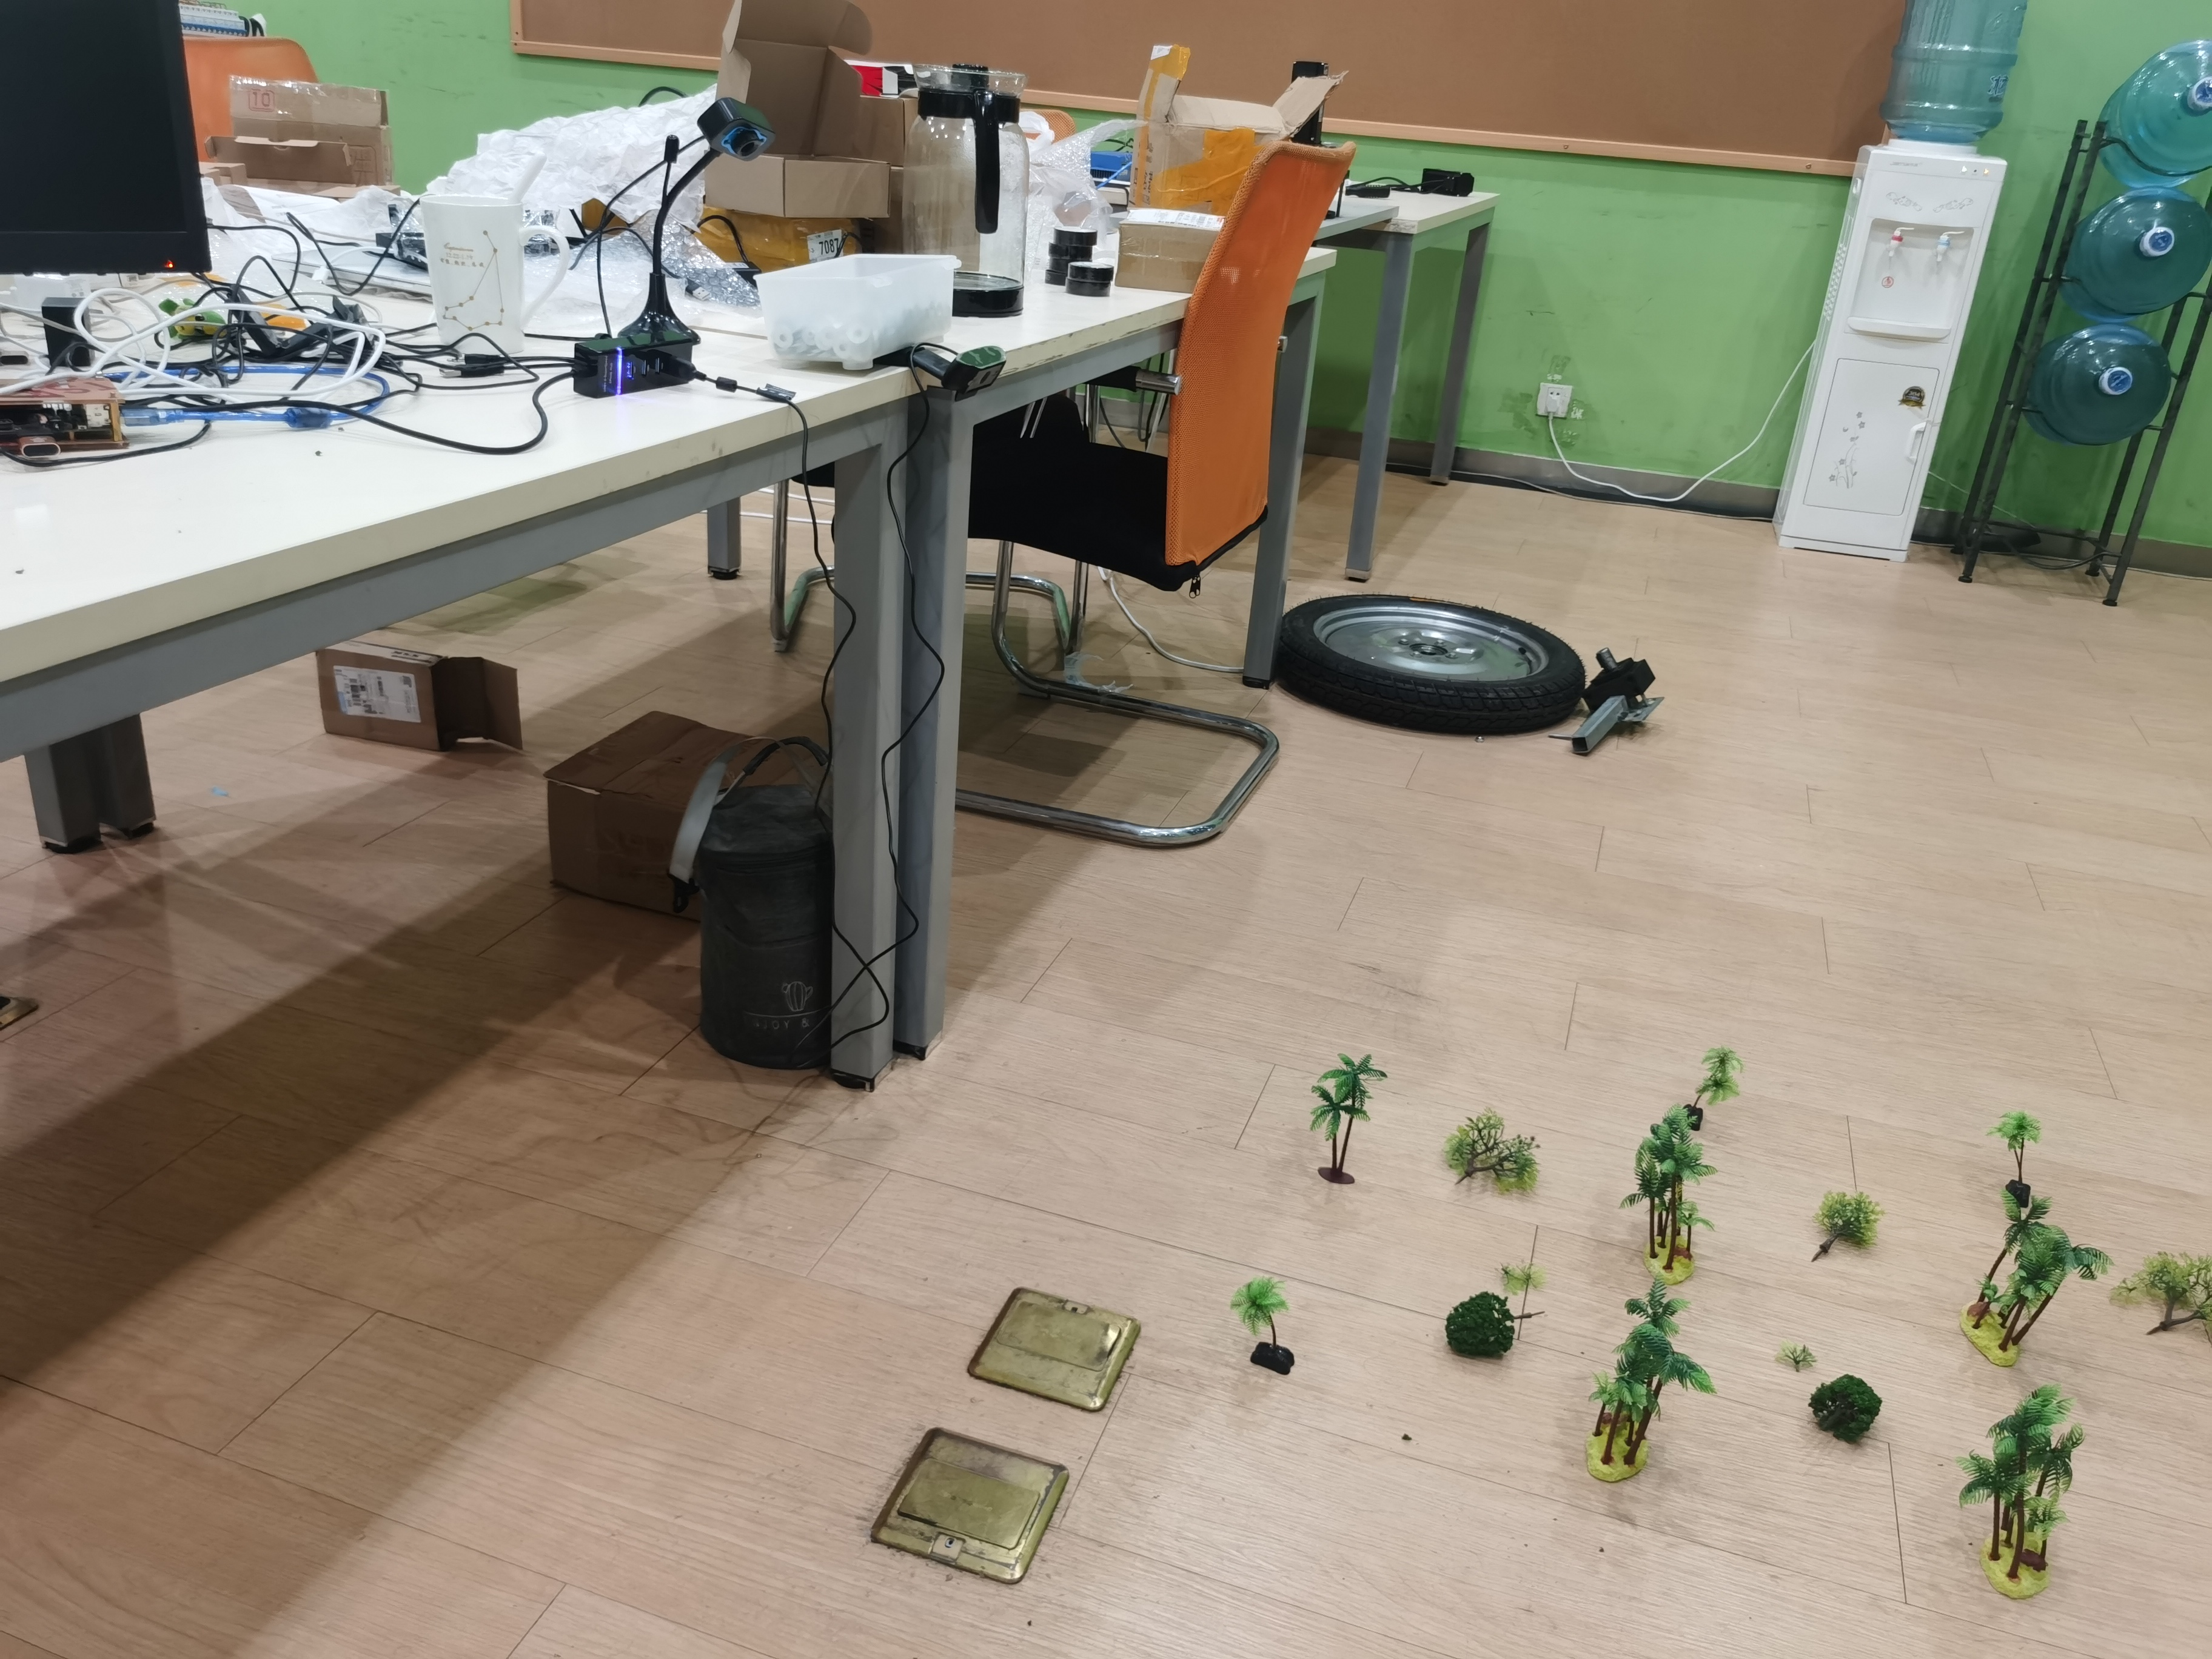corn: (1940, 1377, 2090, 1596), (1571, 1284, 1705, 1483), (1956, 1197, 2087, 1371), (1616, 1121, 1723, 1291), (1289, 1046, 1378, 1192), (1655, 1040, 1747, 1138), (1230, 1265, 1308, 1371), (1986, 1115, 2059, 1204)
